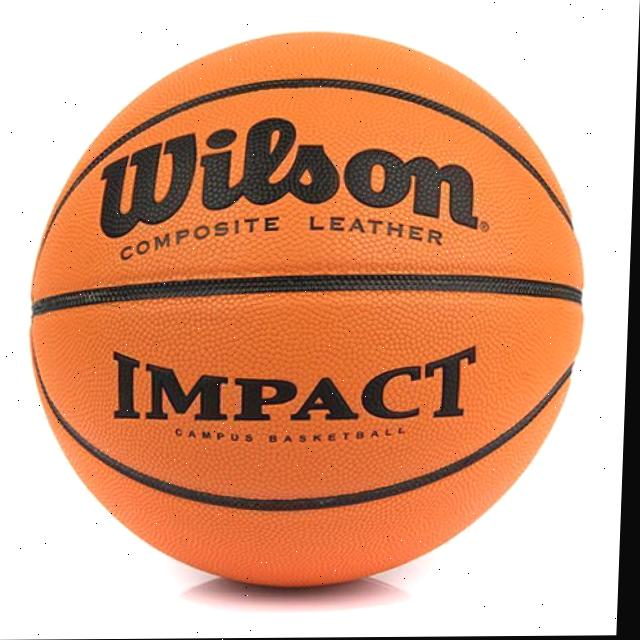Basketball: (19, 25, 593, 591)
